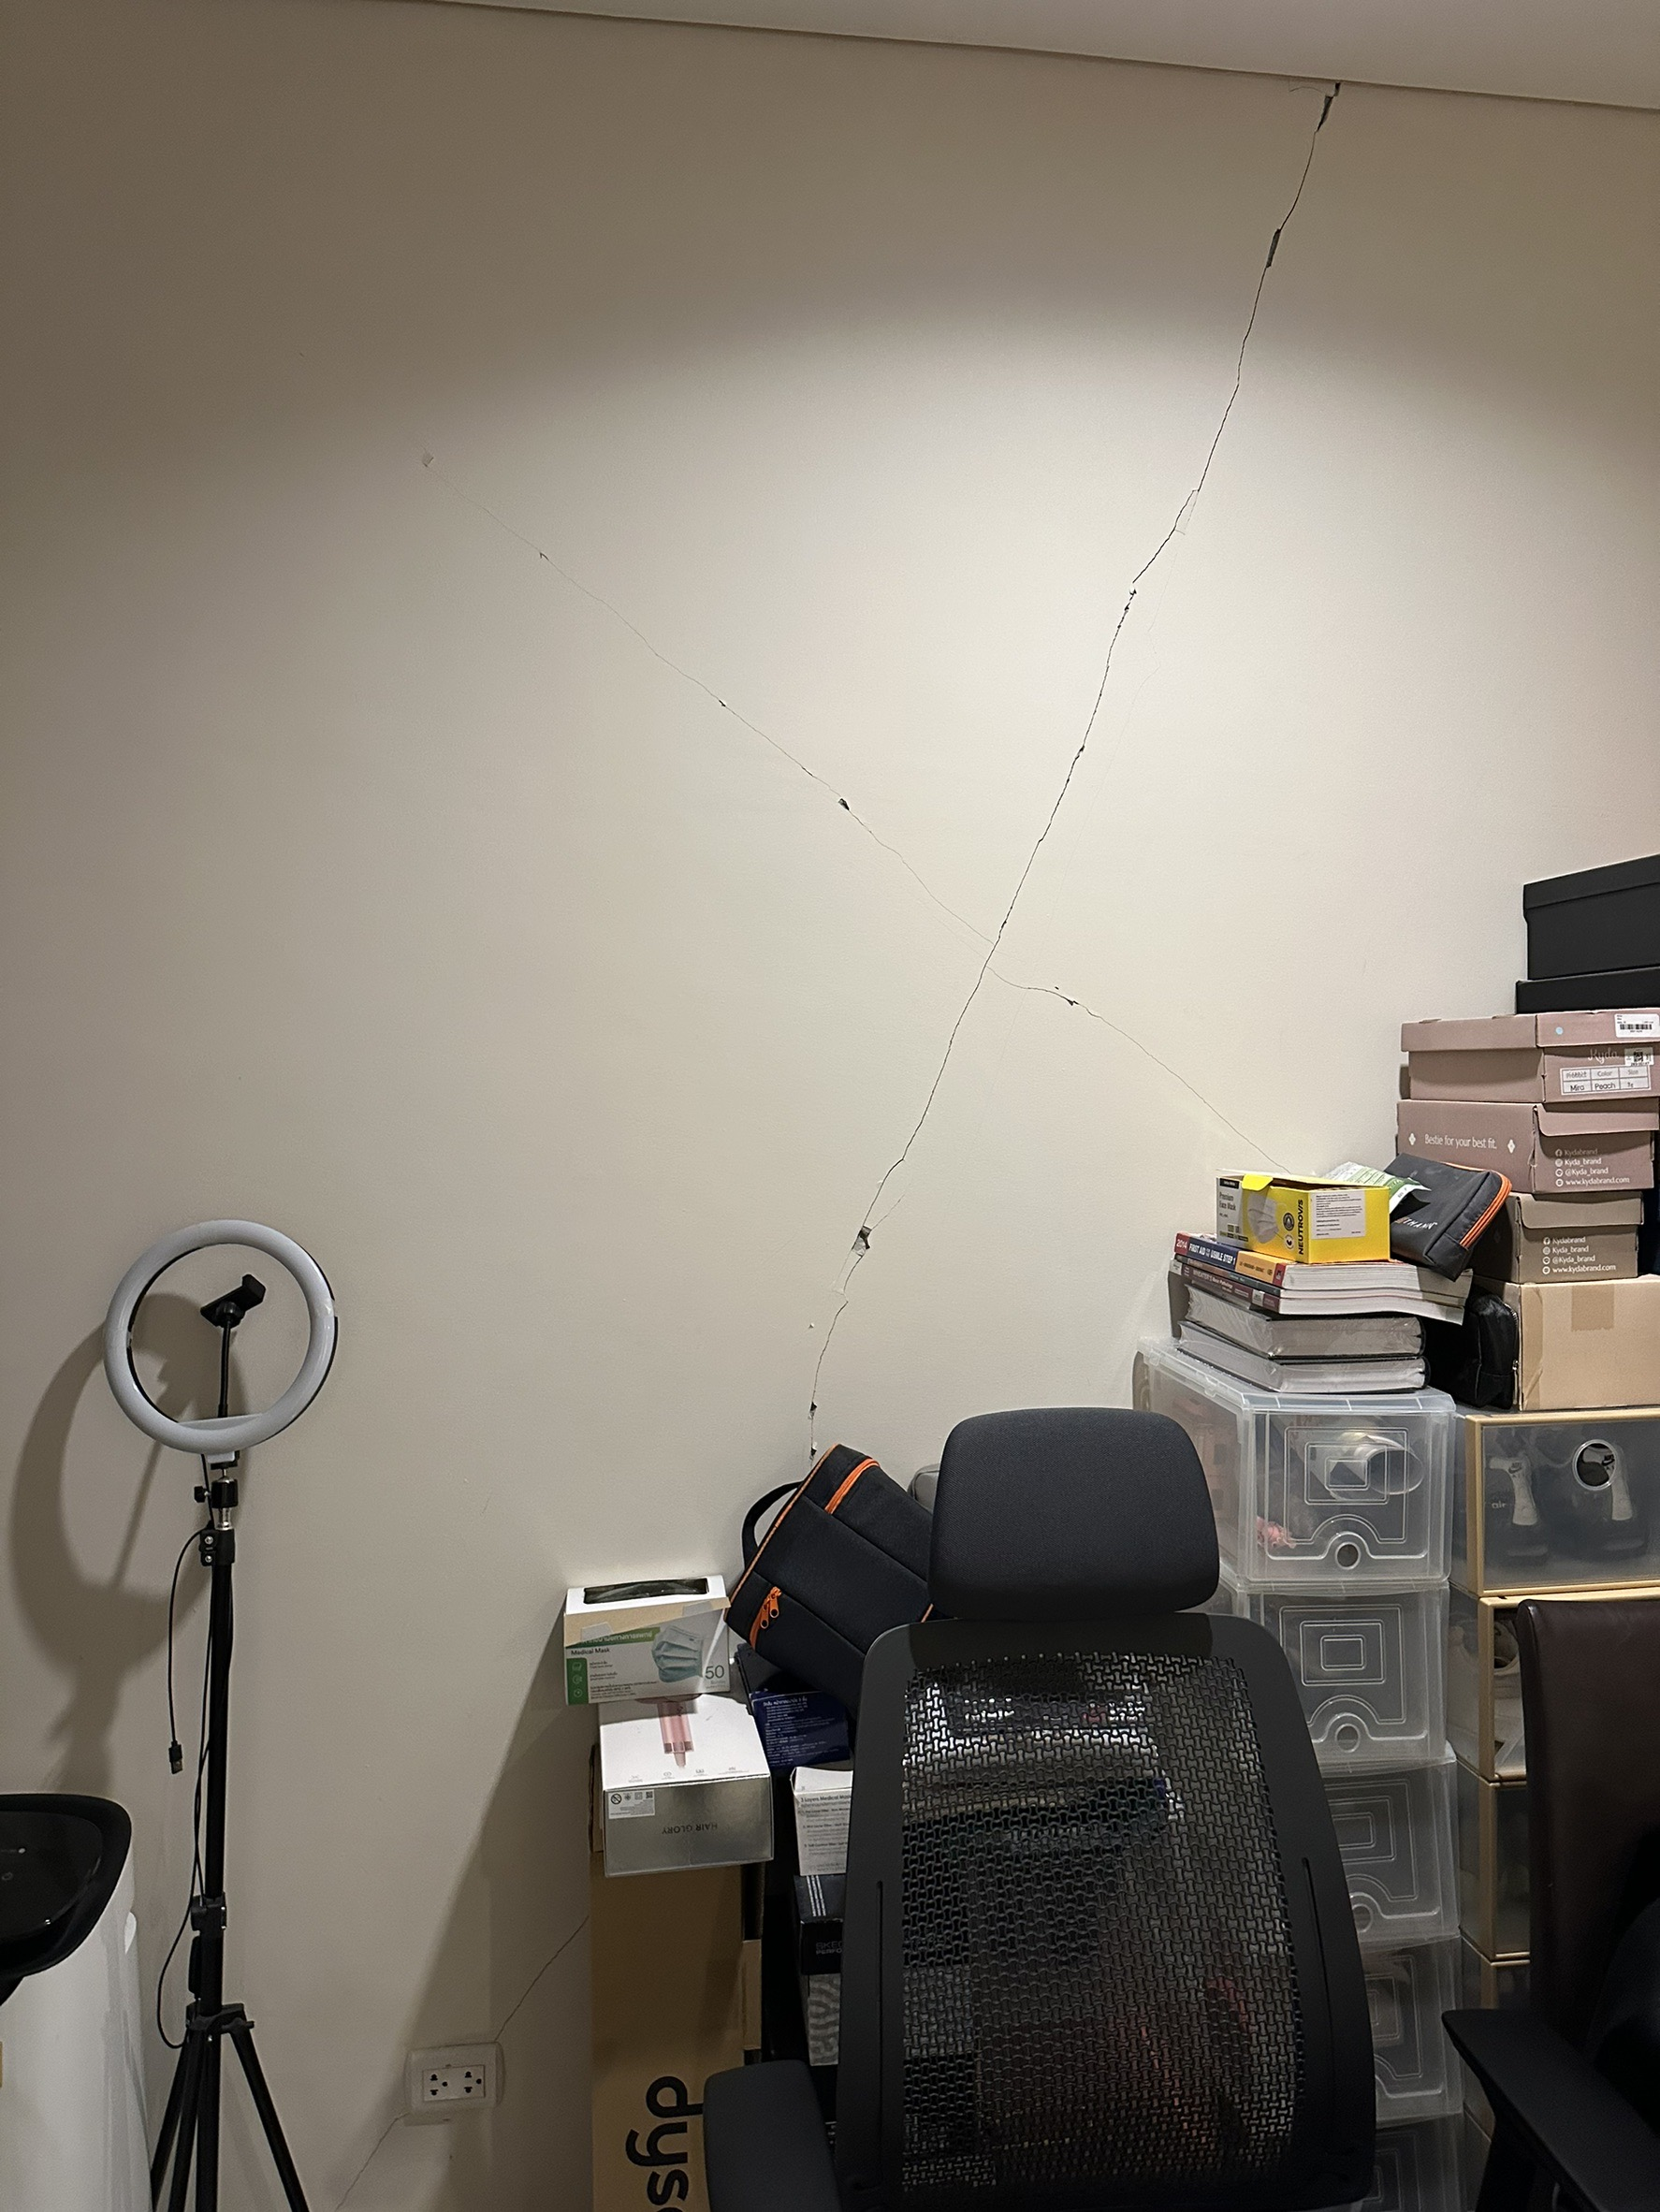Low: (774, 70, 1409, 1471)
